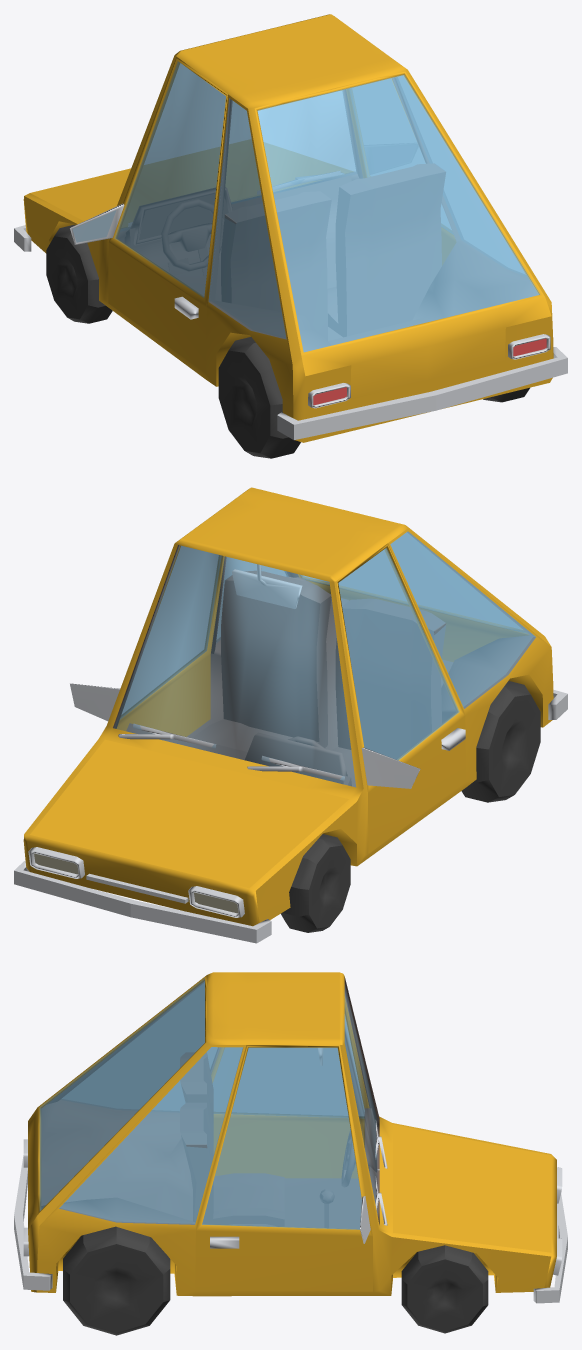
File: KFB_CVP1_hatchback.glb
The picture shows the model from 3 angles, top to bottom: view 1: azimuth 30°, elevation 25°; view 2: azimuth 150°, elevation 25°; view 3: azimuth 270°, elevation 25°; orthographic projection. The views are drawn at different scales.
Parts seen in each view (by area): view 1: Window.3, CarMesh, SeatR, Window.2, Trunk, Interior, WindowL, SeatL, Hood, DoorL, WheelRL, BumperRear (+11 smaller); view 2: WindowFront.1, CarMesh, Hood, SeatR, Window.2, SeatL, WindowL, DoorL, Window, Interior, Window.3, WheelRL (+15 smaller); view 3: CarMesh, Window, Interior, Hood, WindowR, Window.3, DoorR, WheelRR, Window.2, DoorL, WindowL, WheelFR (+7 smaller).
Part boxes in pixels (<box>): Window.3: <box>257,74,539,352</box>; CarMesh: <box>23,14,553,442</box>; SeatR: <box>327,163,445,336</box>; Window.2: <box>114,61,225,297</box>; Trunk: <box>254,71,551,399</box>; Interior: <box>118,78,538,351</box>; WindowL: <box>208,98,286,339</box>; SeatL: <box>221,191,331,340</box>; Hood: <box>30,140,346,226</box>; DoorL: <box>108,56,227,373</box>; WheelRL: <box>218,337,300,458</box>; BumperRear: <box>277,347,567,439</box>; WindowFront.1: <box>114,545,355,787</box>; CarMesh: <box>23,487,553,926</box>; Hood: <box>30,739,348,888</box>; SeatR: <box>192,570,331,751</box>; Window.2: <box>338,548,459,760</box>; SeatL: <box>331,599,446,787</box>; WindowL: <box>390,531,535,708</box>; DoorL: <box>336,543,466,853</box>; Window: <box>120,546,221,719</box>; Interior: <box>113,532,535,749</box>; Window.3: <box>301,533,525,632</box>; WheelRL: <box>461,681,540,802</box>; CarMesh: <box>28,972,556,1296</box>; Window: <box>202,1047,361,1229</box>; Interior: <box>41,977,379,1228</box>; Hood: <box>393,1124,551,1252</box>; WindowR: <box>59,1047,242,1224</box>; Window.3: <box>39,978,204,1210</box>; DoorR: <box>195,1045,372,1291</box>; WheelRR: <box>63,1226,170,1335</box>; Window.2: <box>213,1017,364,1118</box>; DoorL: <box>211,996,369,1178</box>; WindowL: <box>62,983,217,1111</box>; WheelFR: <box>401,1245,488,1333</box>.
Size of the model in its own units: 2.2 by 1.81 by 3.32.
